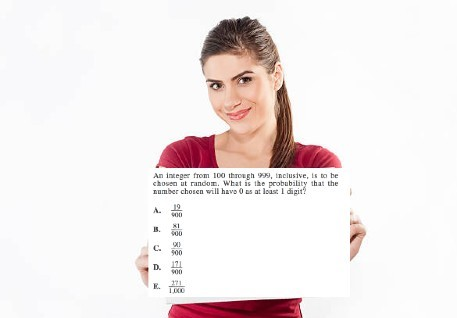questionPaper: (145, 166, 353, 299)
